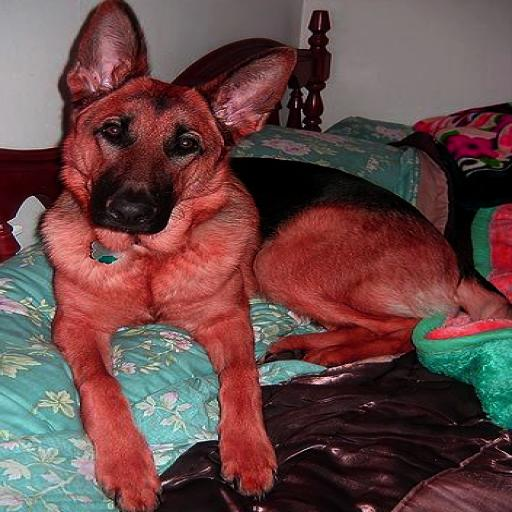dog_face: (66, 0, 289, 237)
